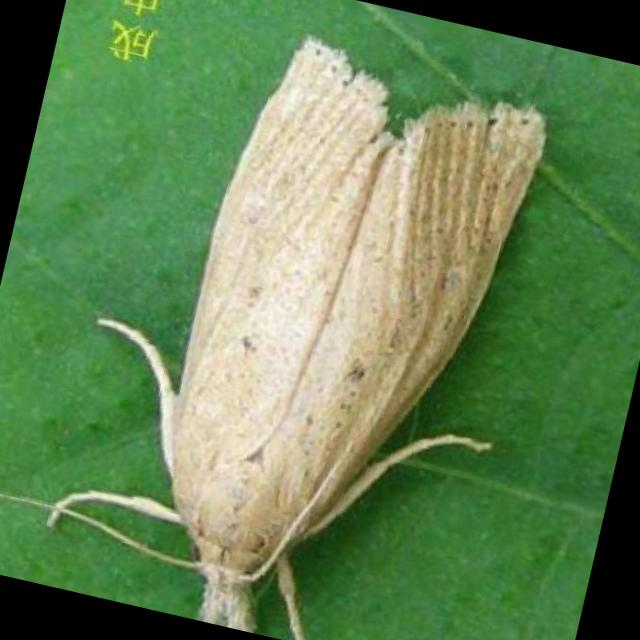stem-borer: (75, 4, 575, 640)
